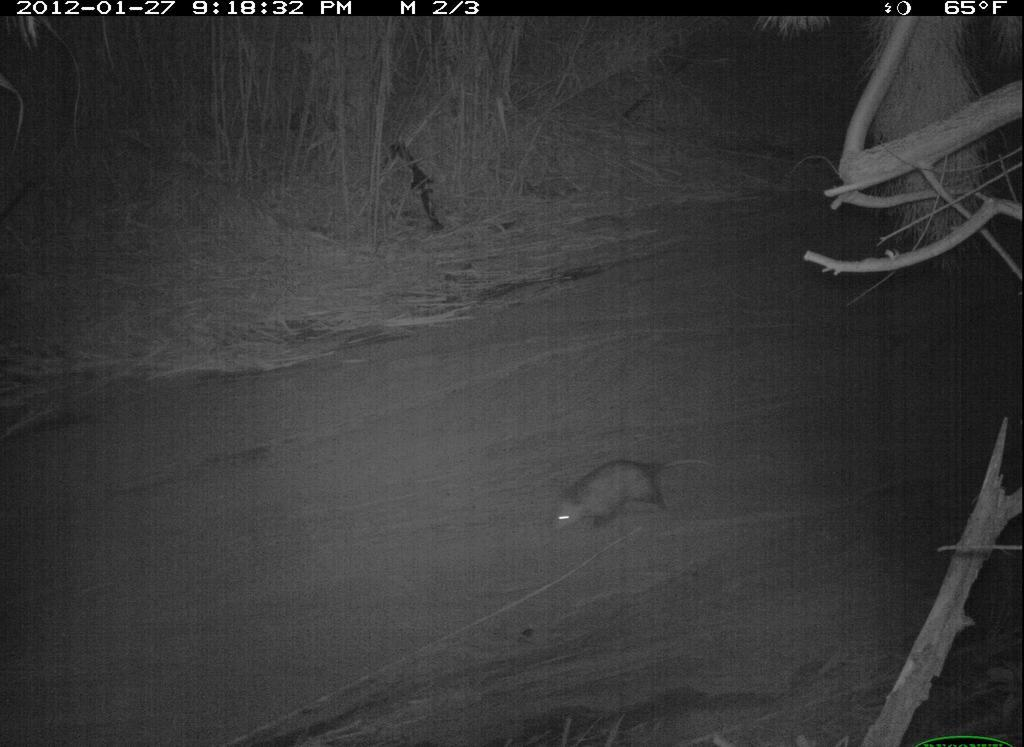opossum: (542, 451, 726, 547)
